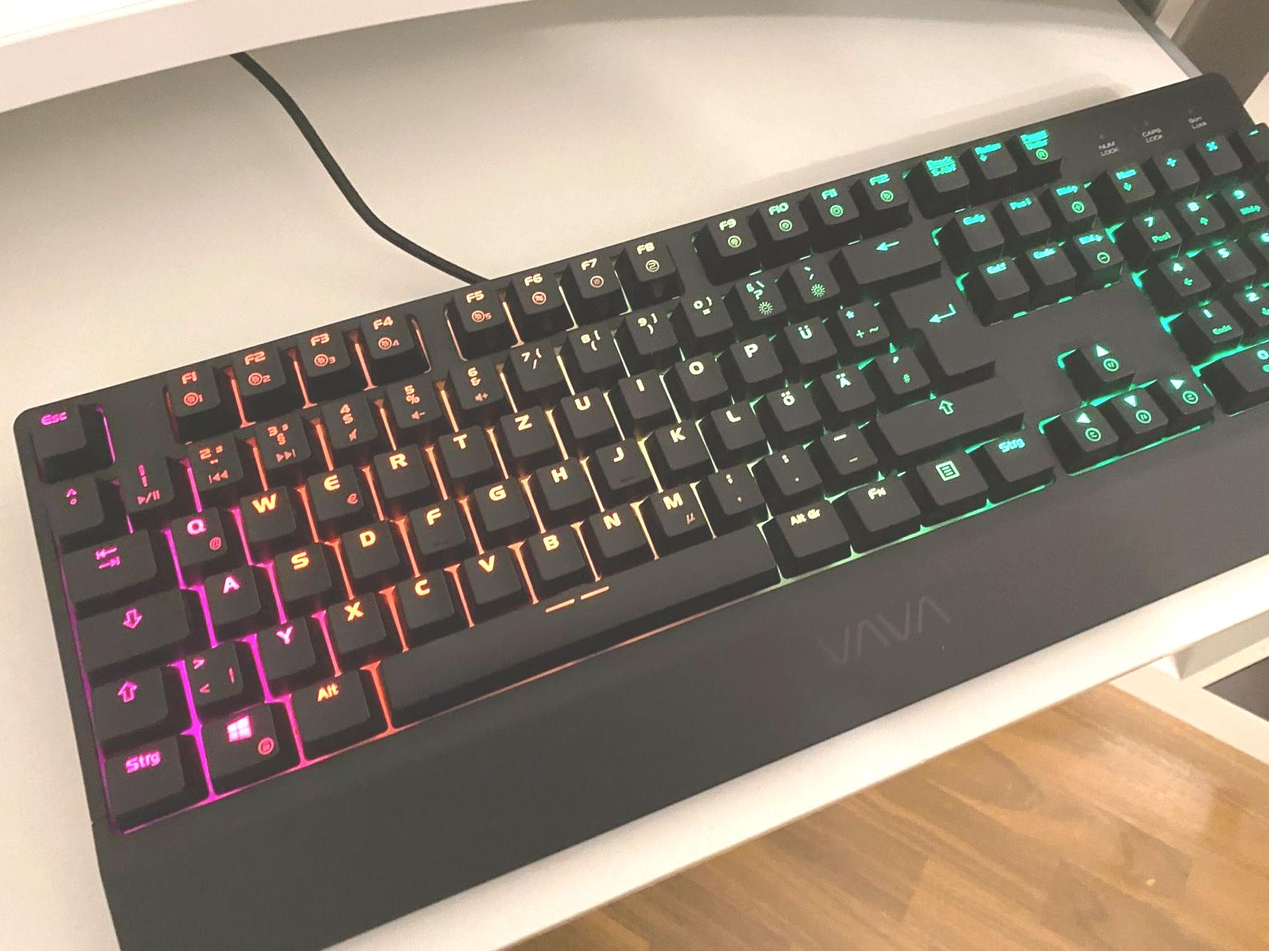0: (679, 283, 733, 335)
1: (114, 449, 174, 512)
2: (184, 432, 243, 494)
3: (250, 410, 310, 472)
4: (317, 390, 378, 449)
5: (381, 373, 445, 429)
6: (445, 355, 509, 411)
7: (505, 339, 567, 391)
8: (562, 320, 625, 374)
9: (621, 301, 678, 354)
a: (201, 562, 261, 625)
accent: (786, 249, 840, 302)
ae: (817, 361, 875, 412)
alt-left: (286, 663, 370, 748)
altgr-right: (766, 495, 848, 558)
b: (520, 520, 591, 583)
c: (390, 566, 459, 633)
caret: (43, 474, 102, 533)
comma: (702, 460, 764, 515)
d: (337, 515, 400, 579)
del: (839, 222, 941, 282)
e: (302, 461, 366, 524)
enter: (887, 273, 994, 375)
f: (405, 495, 468, 556)
g: (468, 475, 532, 531)
h: (530, 454, 595, 511)
hash: (873, 344, 929, 393)
i: (613, 366, 673, 419)
j: (591, 434, 654, 491)
k: (650, 416, 711, 471)
keyboard: (13, 62, 1268, 890)
l: (708, 397, 764, 449)
less: (181, 636, 243, 710)
m: (641, 479, 708, 539)
minus: (816, 422, 876, 474)
n: (581, 499, 650, 559)
o: (667, 345, 728, 401)
oe: (764, 378, 820, 431)
p: (727, 329, 781, 382)
plus: (833, 297, 888, 347)
point: (762, 440, 820, 494)
q: (165, 503, 231, 571)
r: (369, 440, 431, 497)
s: (269, 539, 330, 602)
shift-left: (86, 664, 167, 739)
shift-lock: (70, 583, 190, 668)
shift-right: (870, 375, 1022, 453)
space: (361, 511, 786, 721)
ss: (733, 266, 785, 319)
strg-left: (98, 733, 185, 818)
strg-right: (980, 428, 1054, 481)
t: (433, 422, 497, 479)
tab: (57, 522, 156, 604)
u: (553, 385, 619, 440)
ue: (781, 313, 836, 363)
v: (457, 542, 525, 606)
w: (235, 482, 295, 543)
x: (322, 589, 386, 653)
y: (253, 614, 316, 680)
z: (495, 403, 559, 457)
